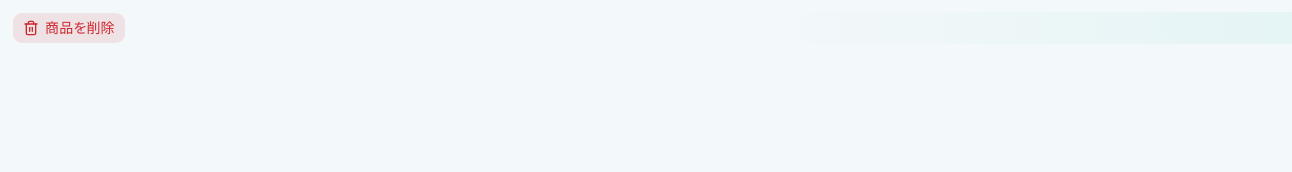
ProductDeleteControl › requires an explicit confirmation before exposing the delete action
Expected: the button "削除を確定" is not shown
What coordinates should you click on to do the following:
click the button "商品を削除"
I would click on:
 (69, 28)
Its box is [12,12,126,44].
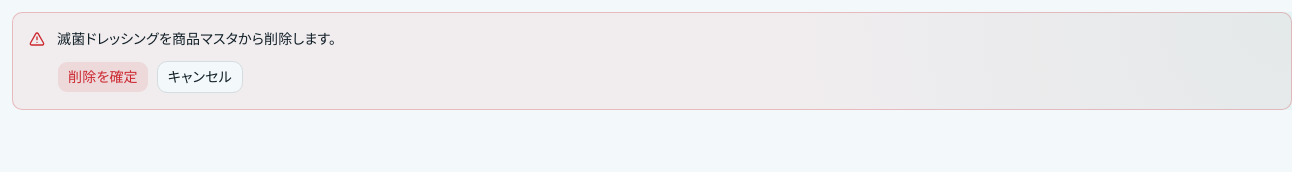
Now the text "滅菌ドレッシングを商品マスタから削除します。" is shown, box [57,29,336,48]
Now the button "削除を確定" is shown, box [57,61,149,93]
What coordinates should you click on to do the following:
click the button "キャンセル"
I would click on:
 (200, 77)
Its box is [157,61,243,93].
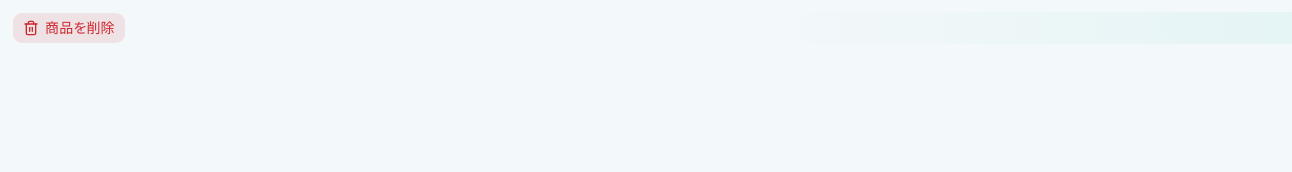
Now the button "削除を確定" is gone
